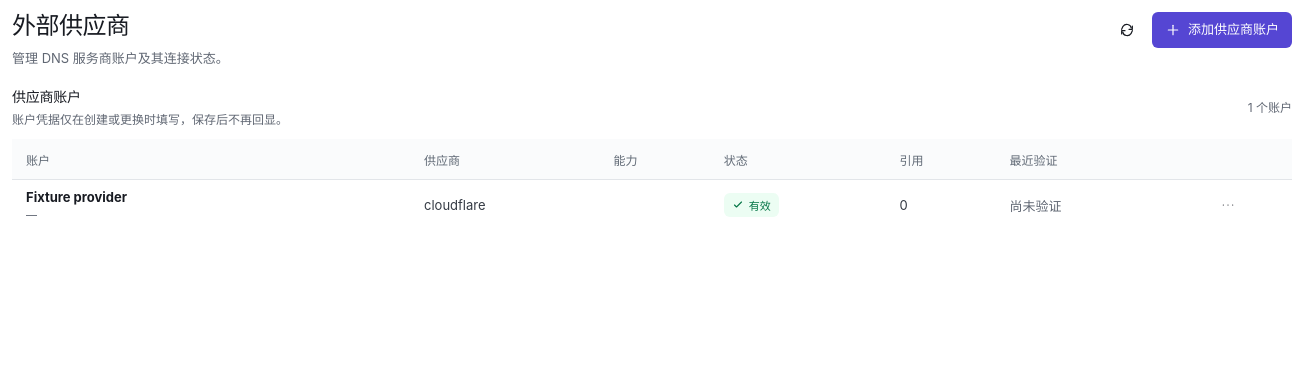
Test: Provider integration deletion › confirms and removes only the selected unused integration
Press ArrowDown in the button named "Fixture provider 的操作", box [1212,189,1244,221]
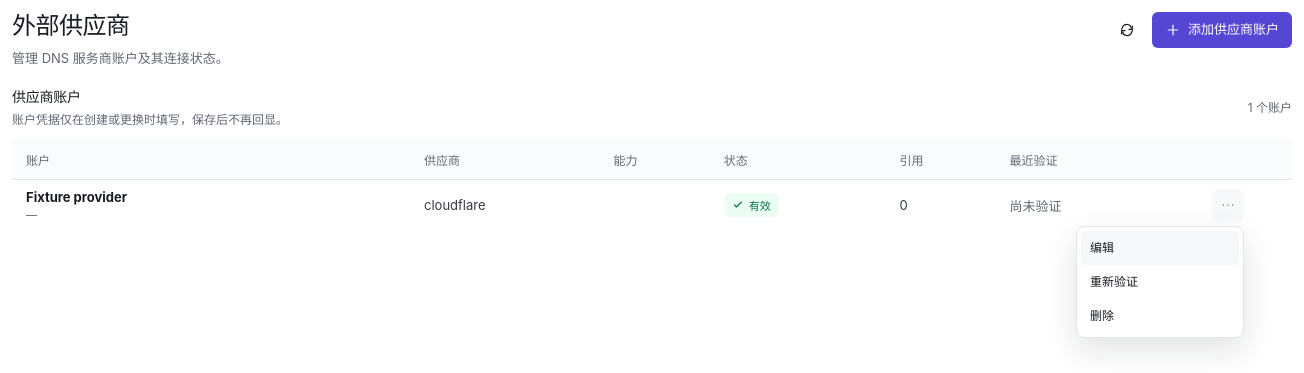
Now the menu item "删除" is shown
Click the menu item "删除".
click(1160, 316)  # box [1081,299,1239,333]
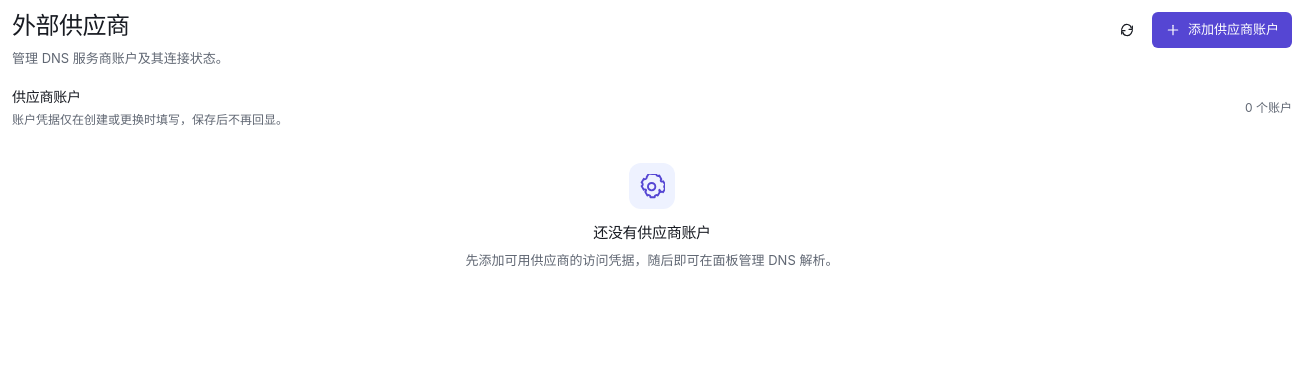
Now the text "Fixture provider" is gone
